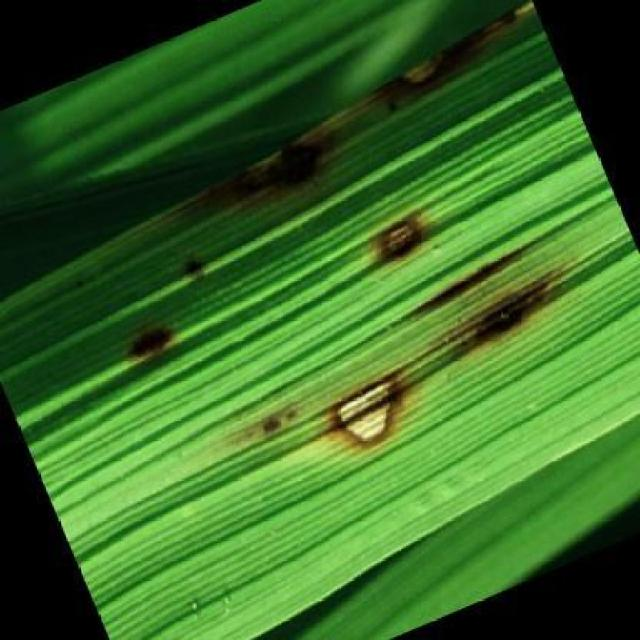Leaf_Blast: (347, 0, 539, 129), (423, 244, 597, 364), (224, 114, 362, 226), (309, 360, 440, 471), (356, 205, 452, 290), (208, 396, 309, 466), (112, 318, 197, 384)
